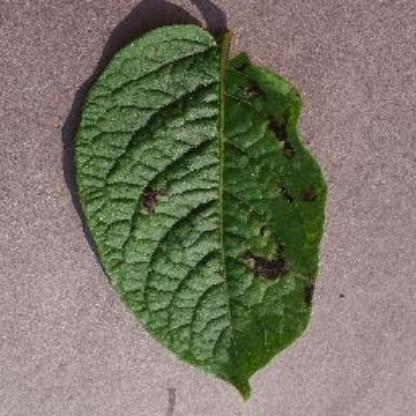Late-Blight: (58, 13, 352, 409)
